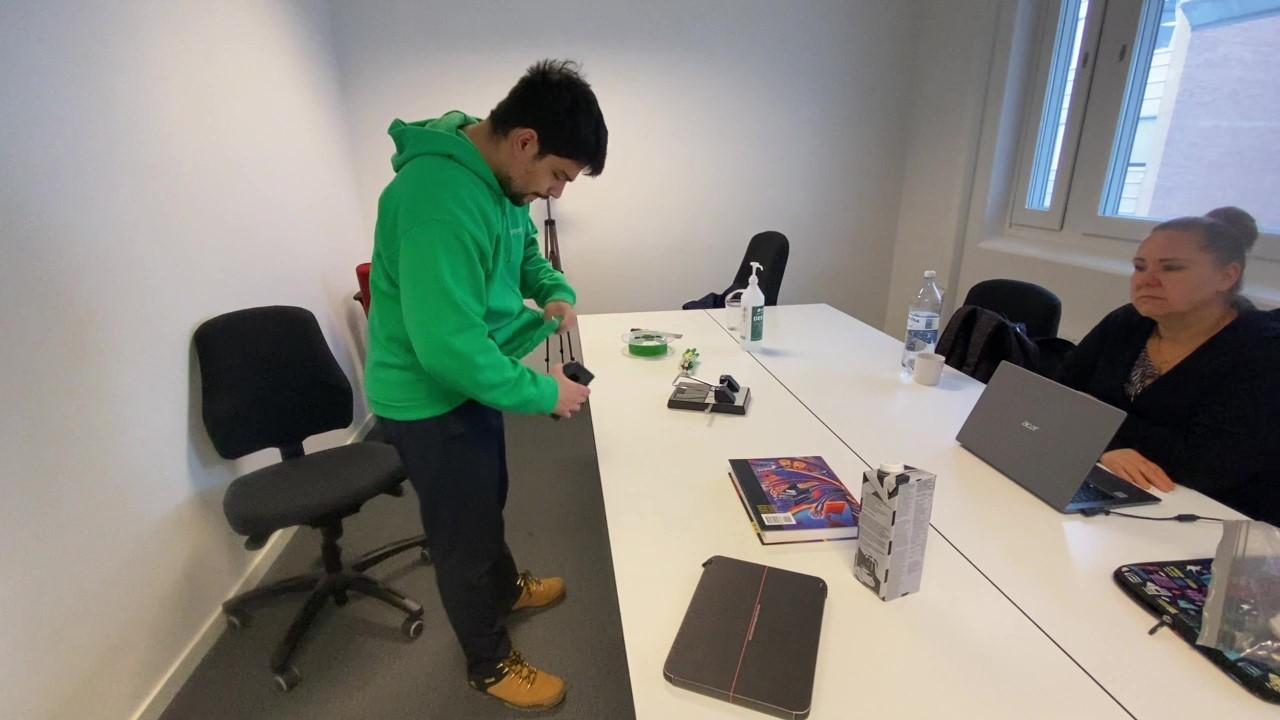shoplifting: (362, 62, 601, 711)
